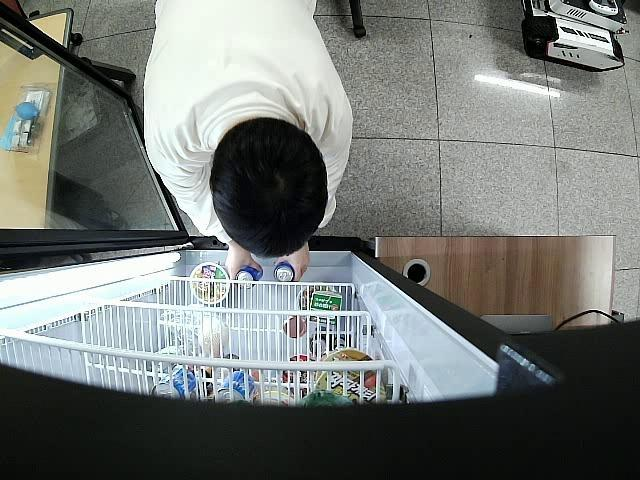13_pocariSweat: (235, 265, 264, 289), (272, 262, 295, 284)
